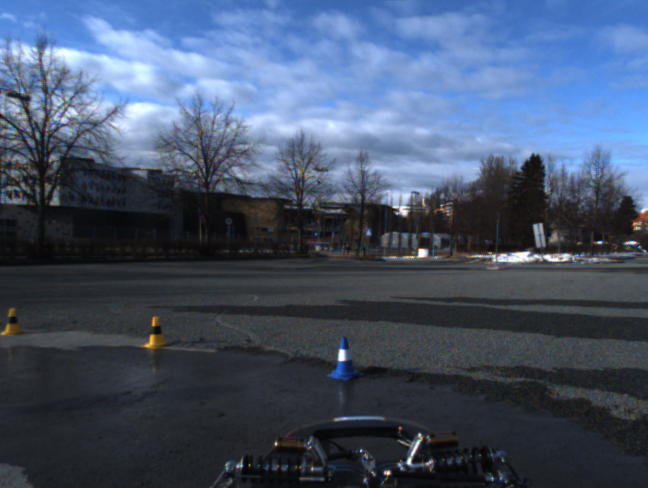cone-small-blue: (326, 336, 365, 380)
cone-small-yellow: (140, 316, 170, 349), (1, 306, 25, 336)
